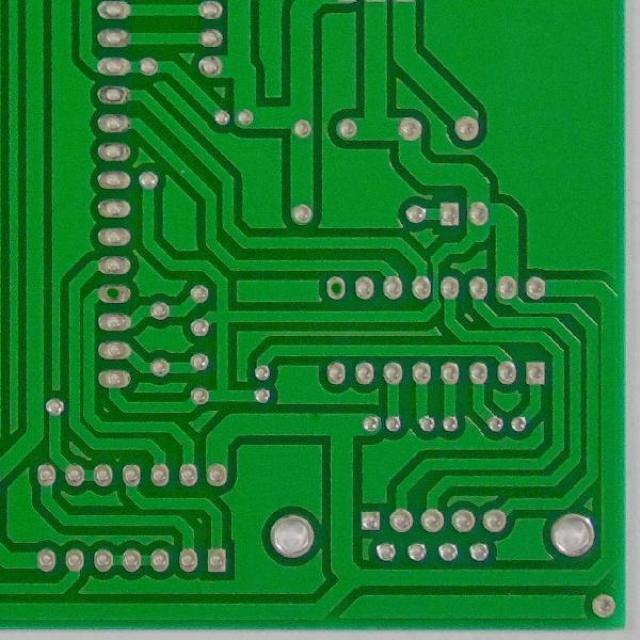missing_hole: (326, 275, 352, 304), (101, 282, 130, 306)
